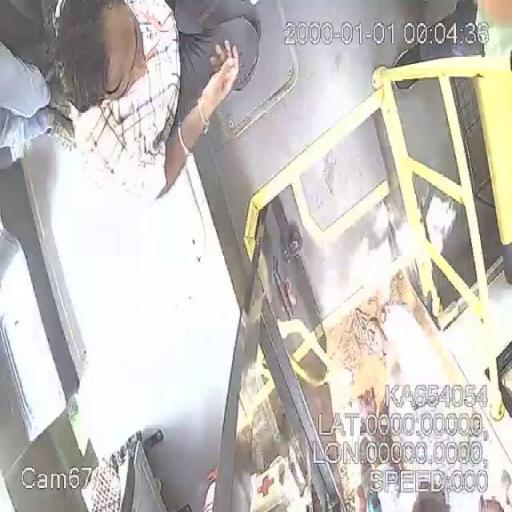persona: (45, 0, 266, 200)
